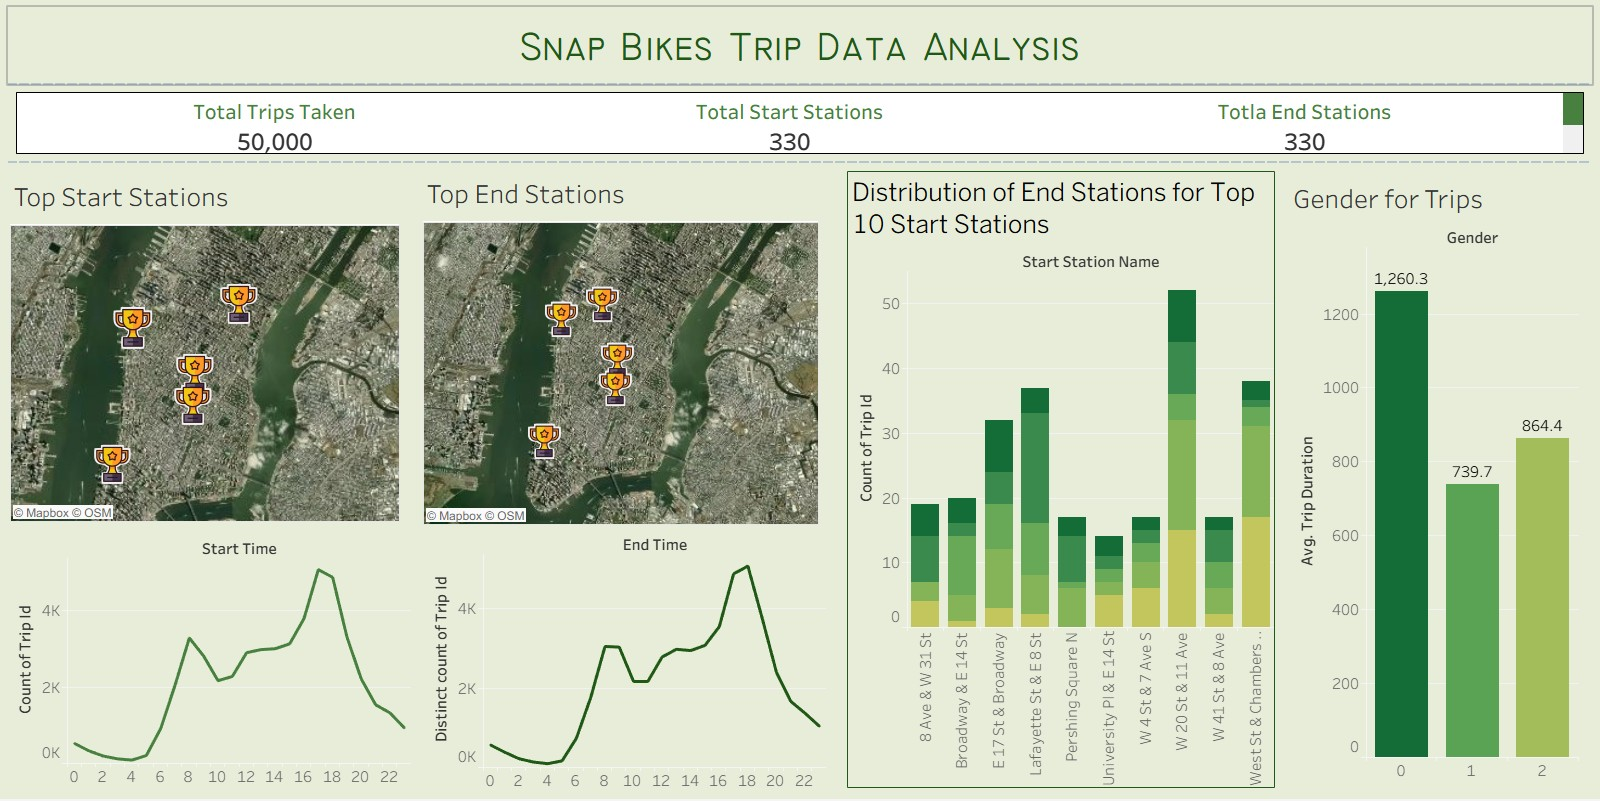

What the dashboard file says about the page in this screenshot:
{"tool":"tableau","page":{"name":"Dashboard 1","canvas":[1600,800],"ordinal":0},"visuals":[{"type":"text","box":[8,8,1584,77]},{"type":"worksheet","title":"KPI","mark":"Automatic","box":[8,85,1584,78]},{"type":"worksheet","title":"Sheet 1_2","mark":"Shape","rows":["end_station_latitude"],"cols":["end_station_longitude"],"box":[413,163,416,373]},{"type":"worksheet","title":"Sheet 3","mark":"Automatic","rows":["trip_id"],"cols":["start_station_name"],"box":[843,168,436,625]},{"type":"worksheet","title":"Gender for Trips","mark":"Automatic","rows":["trip_duration"],"cols":["gender"],"box":[1279,168,310,625]},{"type":"worksheet","title":"Sheet 7","mark":"Automatic","rows":["trip_id"],"cols":["end_time"],"box":[419,531,411,266]}]}

Visuals, with their boxes in screenshot pixels (x1, y1, x2, y2), scaled from the page's 1600x800 canvas onto the 1600x801 screenshot:
text: [x1=8, y1=8, x2=1592, y2=85]
"KPI" worksheet: [x1=8, y1=85, x2=1592, y2=163]
"Sheet 1_2" worksheet (Shape marks): [x1=413, y1=163, x2=829, y2=537]
"Sheet 3" worksheet: [x1=843, y1=168, x2=1279, y2=794]
"Gender for Trips" worksheet: [x1=1279, y1=168, x2=1589, y2=794]
"Sheet 7" worksheet: [x1=419, y1=532, x2=830, y2=798]
